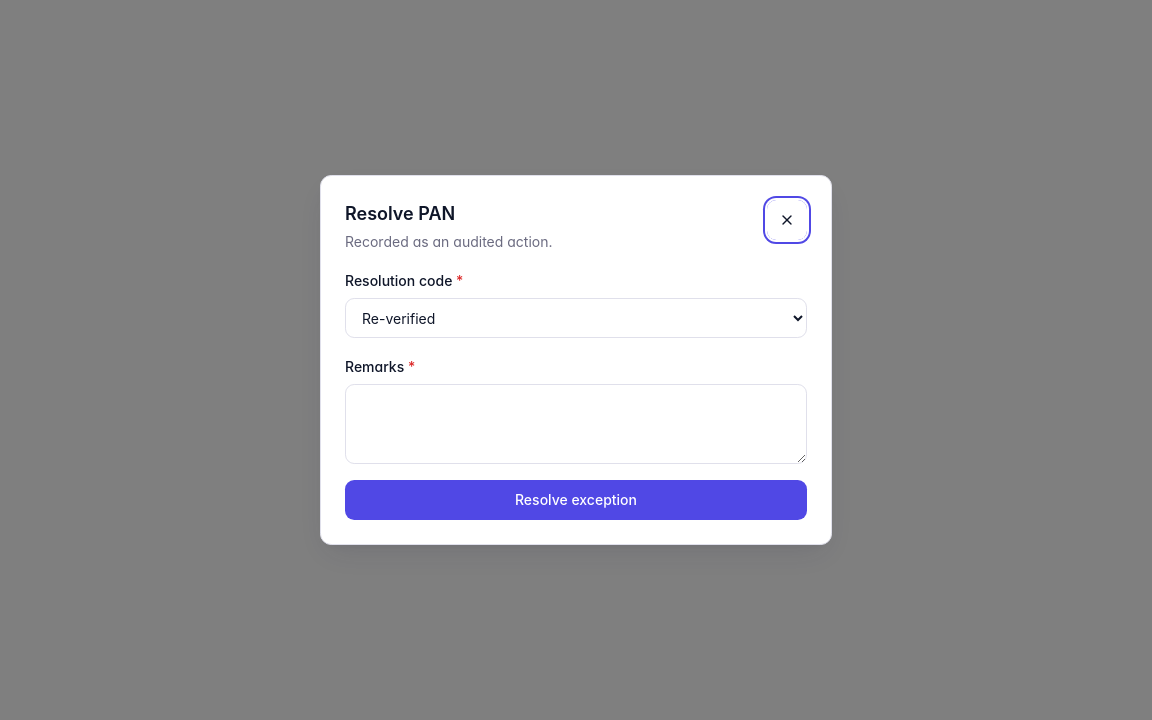
ExceptionResolutionModal › UT-03 blocks waiver submit without evidence (client validation)
This screenshot has width=1152, height=720.
Select "Authorised waiver" in the dropdown labelled "Resolution code *": point(576, 318) [345, 298, 807, 338]
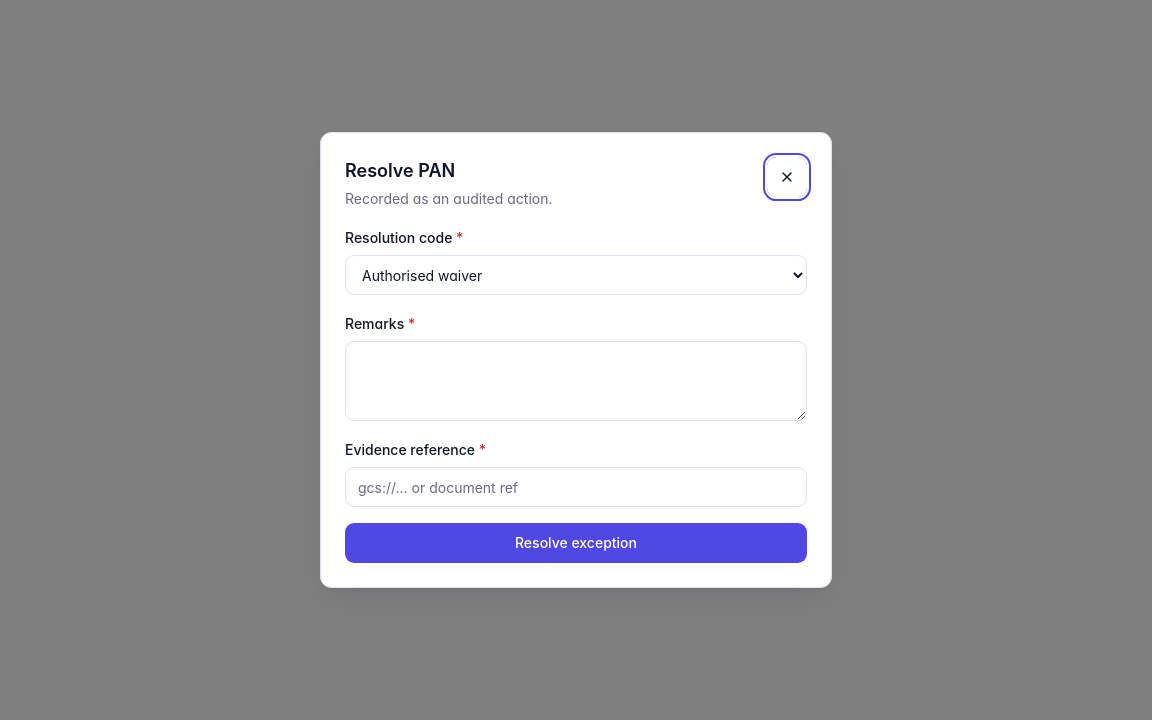
In the text box labelled "Remarks *": point(576, 381) [345, 341, 807, 421], type "waiving"
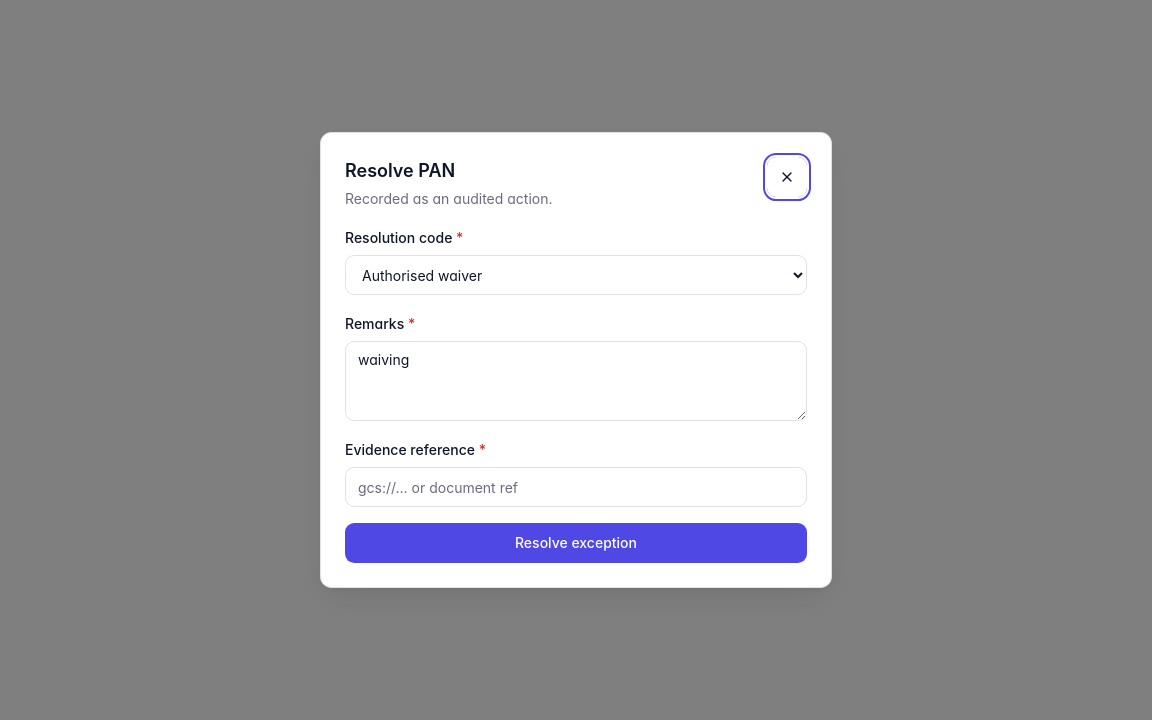
Click the button "Resolve exception": point(576, 543) [345, 523, 807, 563]
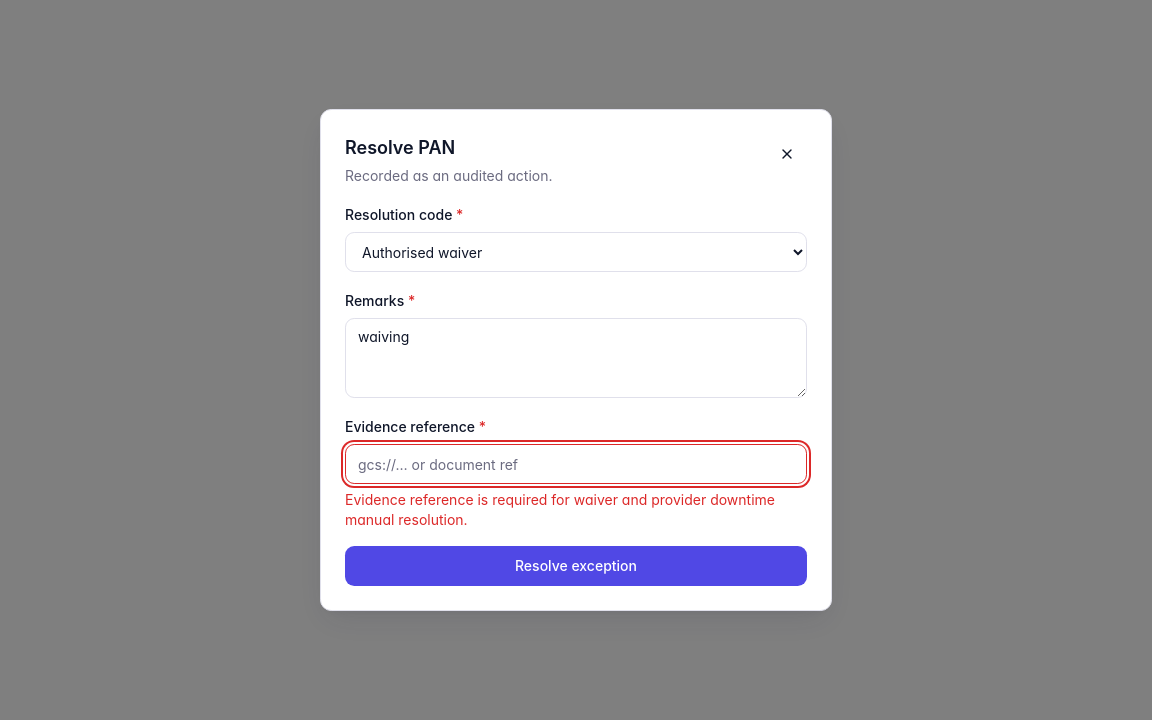
Result: the text "Evidence reference is required" is shown at [345, 491, 775, 528]
